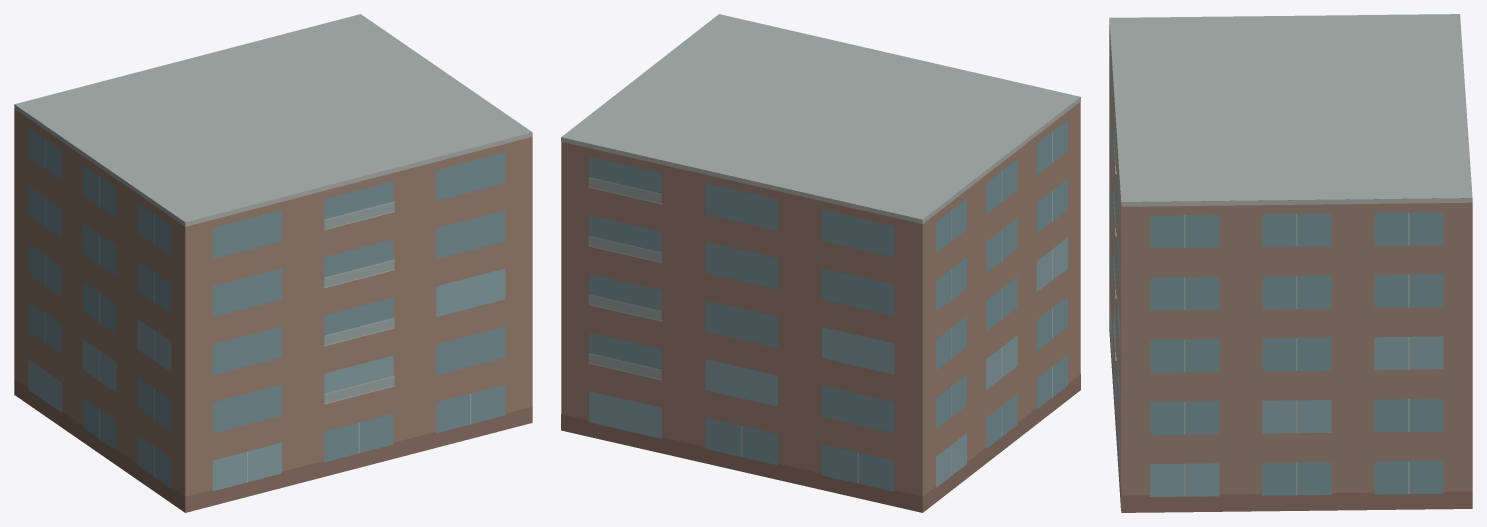
File: survey-upis-32829764.glb
3 renders of one model, left to right at view 1: azimuth 30°, elevation 25°; view 2: azimuth 150°, elevation 25°; view 3: azimuth 270°, elevation 25°, orthographic. The views are drawn at different scales.
Parts seen in each view (by area): view 1: survey-upis-32829764.tmp; view 2: survey-upis-32829764.tmp; view 3: survey-upis-32829764.tmp.
Boxes of the visible parts, x1,y1,x2,y2 form: survey-upis-32829764.tmp: [14, 14, 532, 512]; survey-upis-32829764.tmp: [561, 14, 1080, 512]; survey-upis-32829764.tmp: [1109, 14, 1472, 512].
Size of the model in its own units: 20.64 by 15.9 by 16.85.
